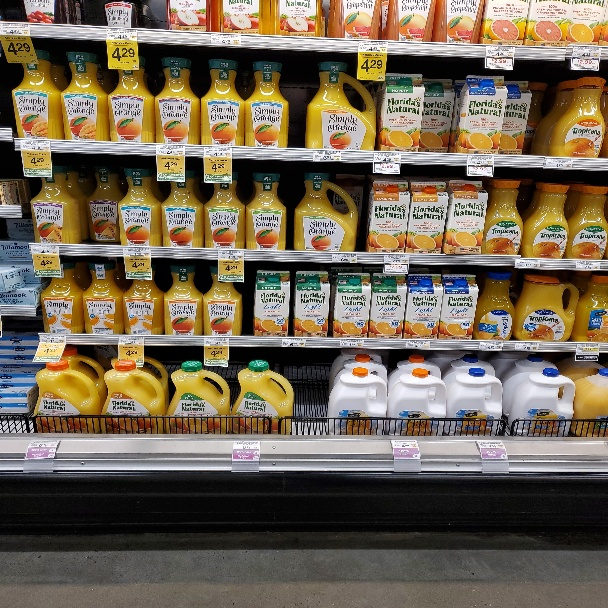All PRICE TAGS: (27, 438, 61, 450), (106, 29, 138, 40), (233, 439, 262, 451), (391, 438, 419, 450), (203, 146, 233, 157), (478, 439, 505, 451), (0, 22, 29, 33), (211, 34, 240, 45), (486, 45, 515, 56), (357, 41, 388, 51), (313, 151, 341, 162), (545, 158, 574, 168), (571, 46, 600, 56), (156, 145, 185, 155), (31, 244, 59, 254), (373, 152, 401, 162), (19, 141, 50, 150), (468, 155, 495, 165), (123, 247, 151, 256), (332, 253, 358, 262), (281, 338, 306, 347), (340, 338, 364, 347), (118, 336, 145, 344), (218, 250, 245, 258), (405, 340, 431, 348), (39, 334, 65, 342), (204, 337, 229, 345), (384, 254, 409, 262), (576, 343, 600, 351), (479, 341, 503, 349), (576, 261, 600, 269), (515, 342, 538, 350), (516, 258, 539, 265)
